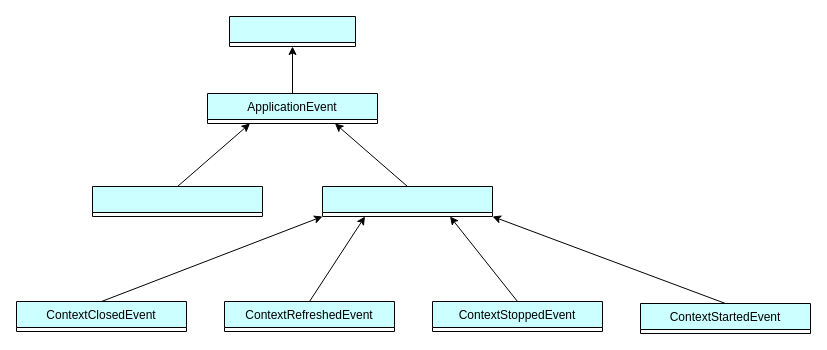
This 827x350 diagram has some shape labels left out. Each missing label, with the centre of its shape:
"ApplicationContextEvent" belongs at (x=407, y=201).
"EventObject" belongs at (x=292, y=31).
"PayloadApplicationEvent" belongs at (x=177, y=201).
